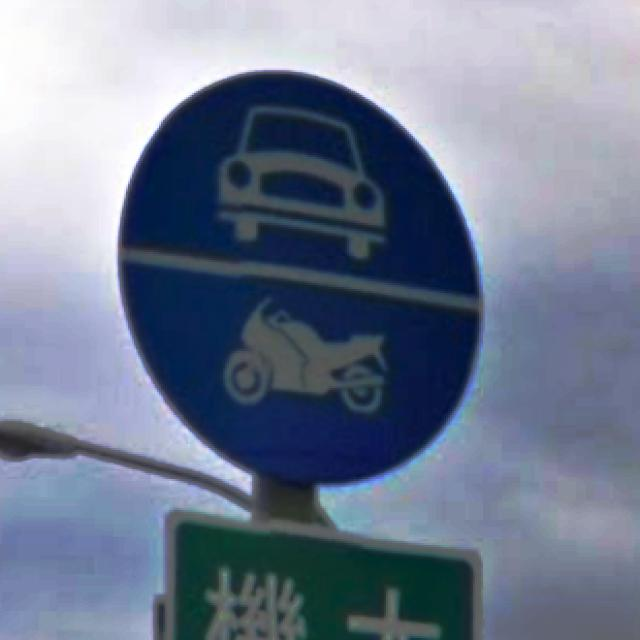carmotorcycle: (118, 72, 483, 487)
